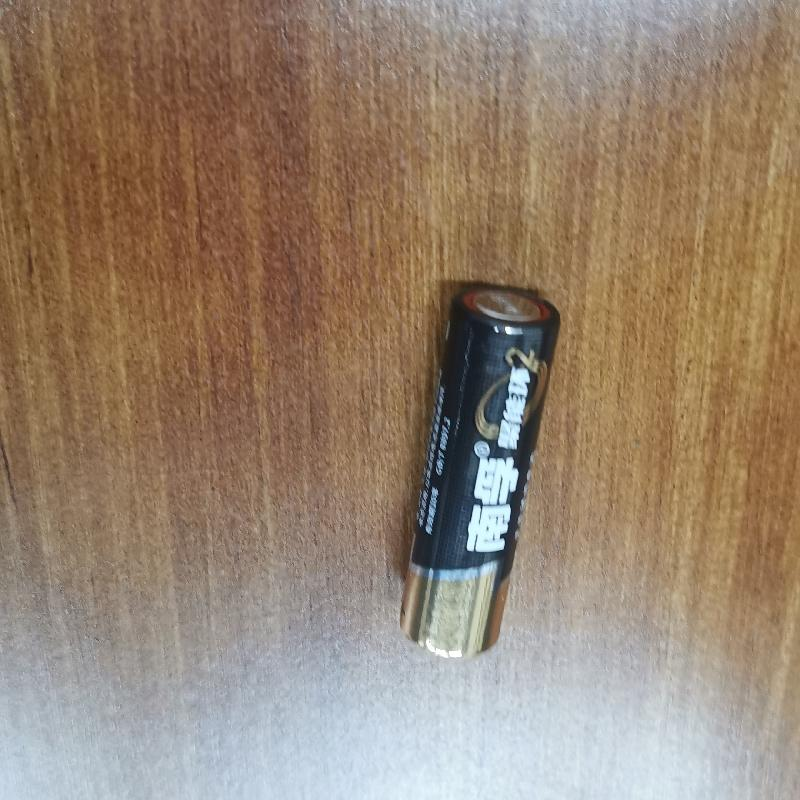battery: (391, 283, 565, 664)
